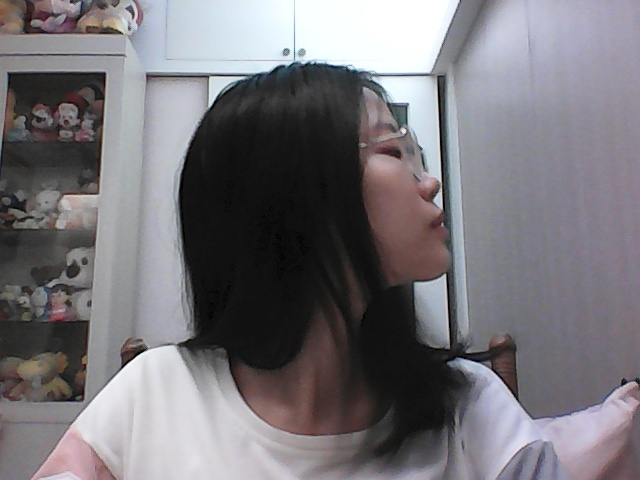NoMask: (349, 150, 471, 293)
